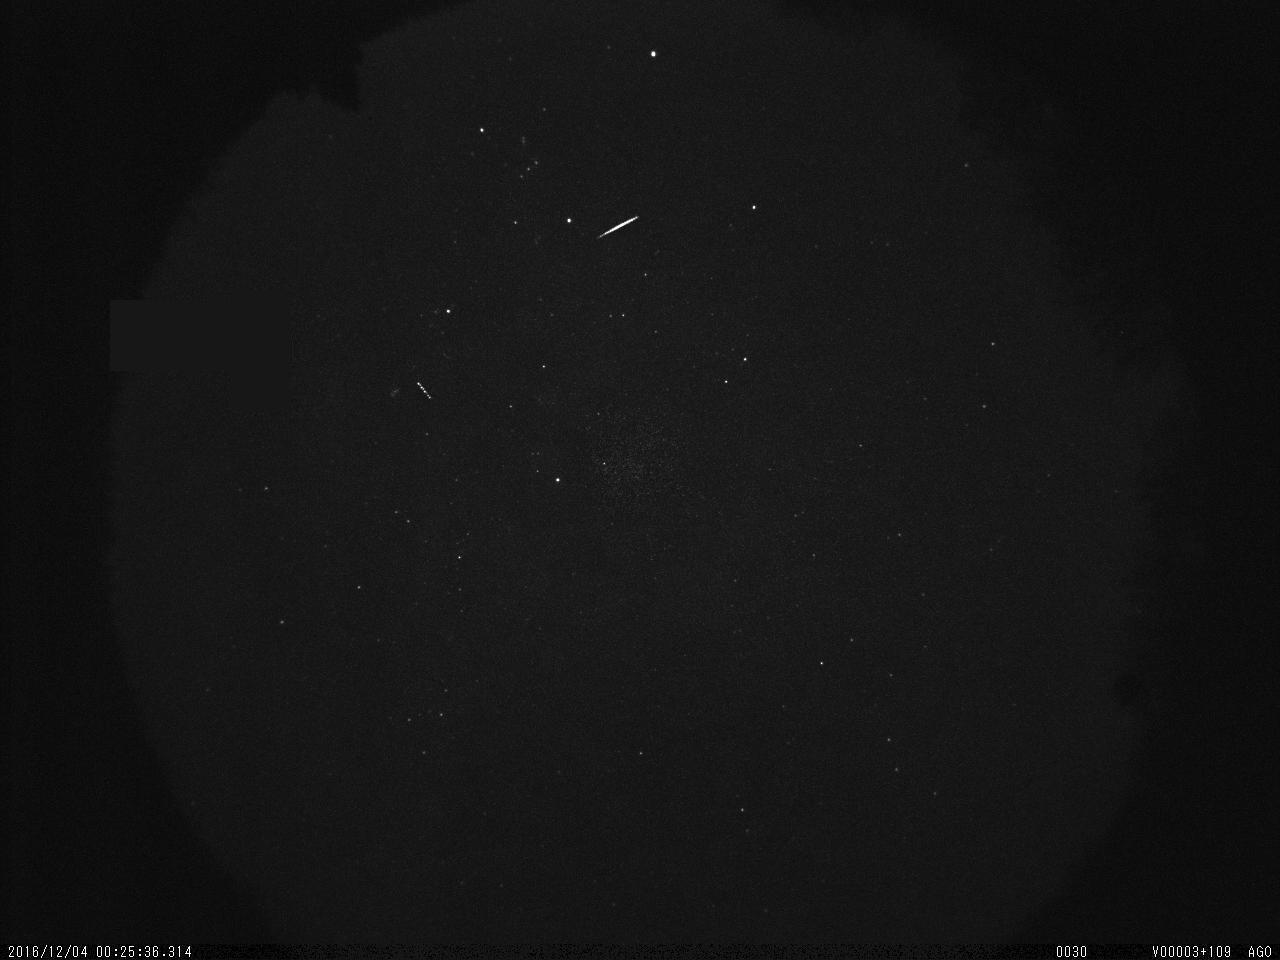meteor: (592, 208, 645, 246)
satelite: (411, 374, 438, 406)
